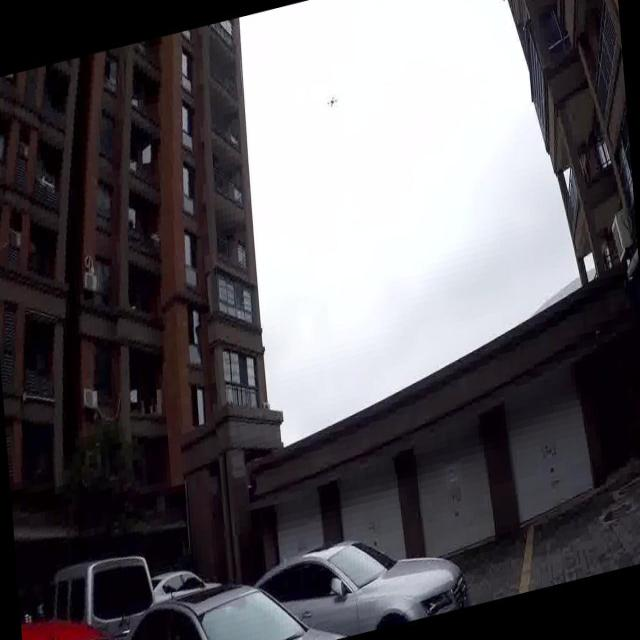drone: (324, 89, 340, 116)
